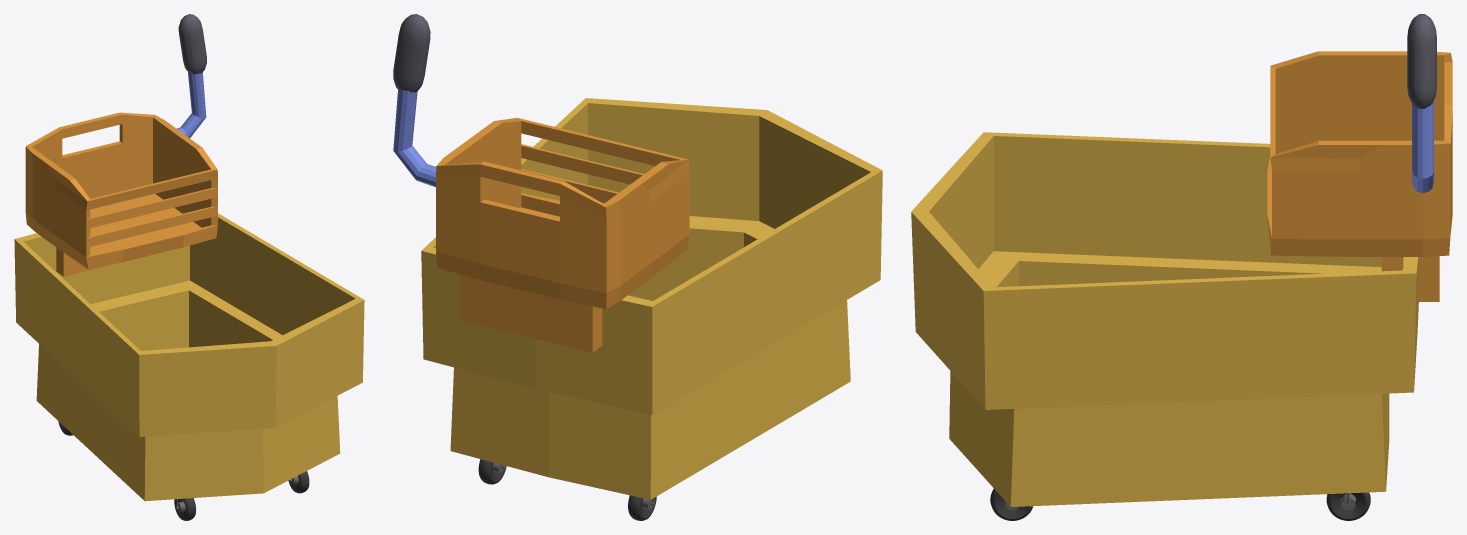
File: bucketDone.fbx
The picture shows the model from 3 angles, left to right: view 1: azimuth 30°, elevation 25°; view 2: azimuth 150°, elevation 25°; view 3: azimuth 270°, elevation 25°; orthographic projection. The views are drawn at different scales.
Visible parts, largest first — view 1: Plane, Plane.001, Mball, Plane.003; view 2: Plane, Plane.001, Mball, Plane.003; view 3: Plane, Plane.001, Mball, Plane.003, Torus.001, Torus.002.
Part boxes in pixels (x1,y1,x2,y2): Plane: (14,213,364,501); Plane.001: (25,112,217,276); Mball: (178,14,206,74); Plane.003: (177,72,206,138); Plane: (421,98,882,499); Plane.001: (436,118,689,352); Mball: (393,14,430,92); Plane.003: (393,90,436,187); Plane: (911,132,1418,506); Plane.001: (1267,51,1452,301); Mball: (1407,14,1436,108); Plane.003: (1412,101,1433,192); Torus.001: (1326,492,1370,520); Torus.002: (990,488,1032,520).
Bounding box in the file's own units: 446 × 691 × 643.
